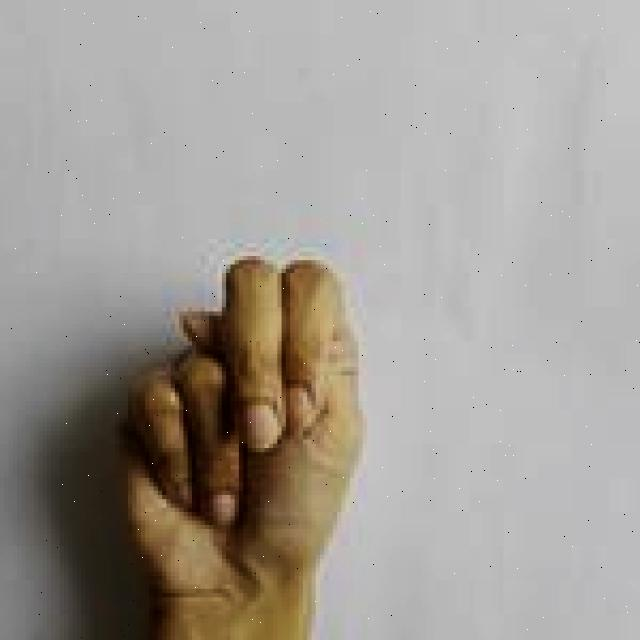N: (96, 252, 375, 640)
